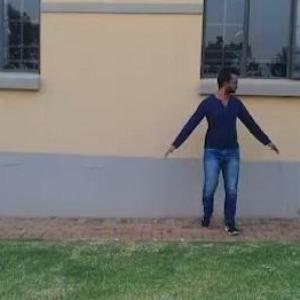land: (162, 61, 270, 244)
